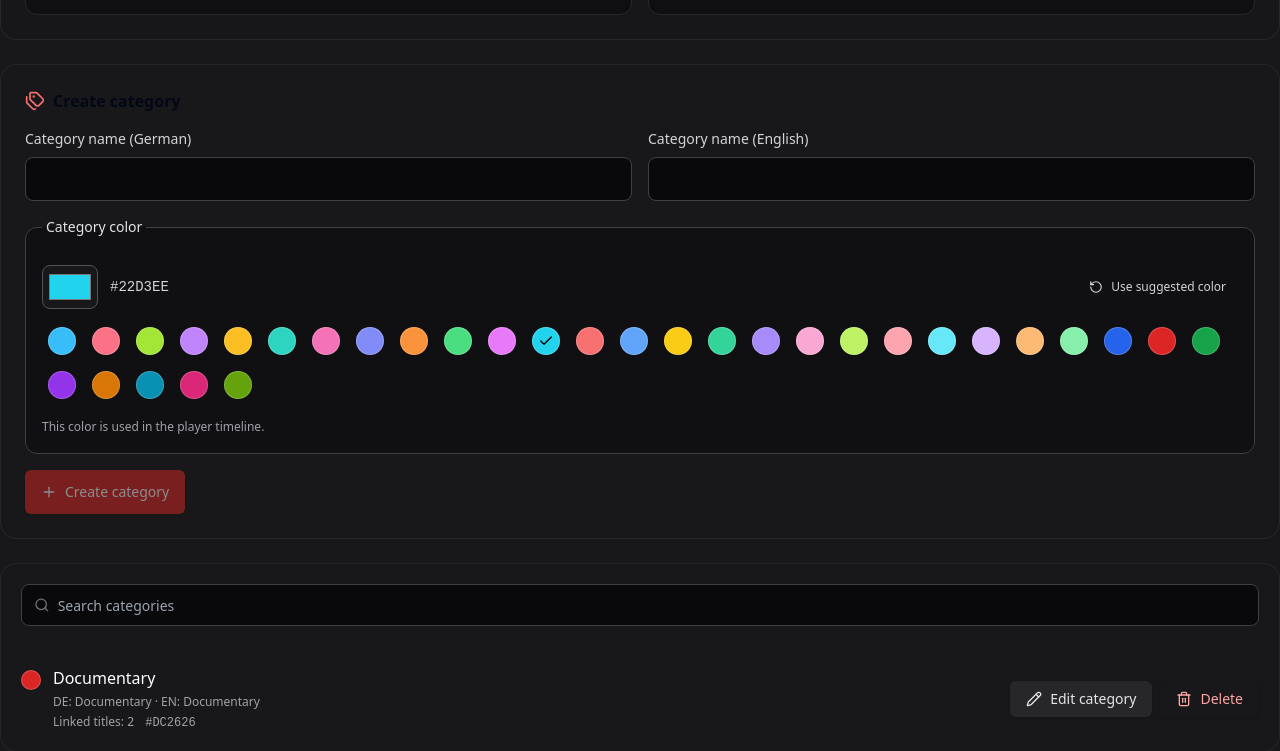
it: edits a category name and color using its stable ID
(page scrolled)
Click the button with aria-label "Edit category: Documentary" at point(1081, 698), box [1010,680,1152,716]
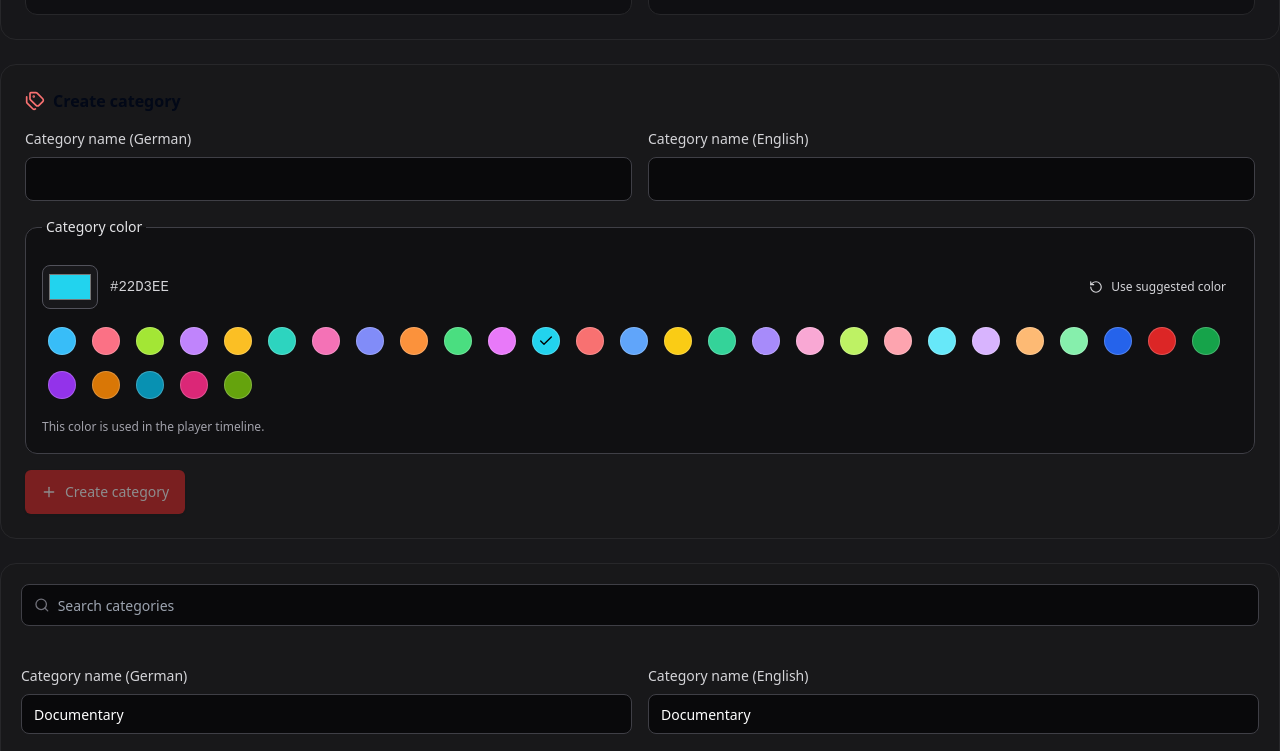
Replace the text in the 2nd field labelled "Category name (German)" with "New category name" at point(326, 714), box [21,694,632,734]
(page scrolled)
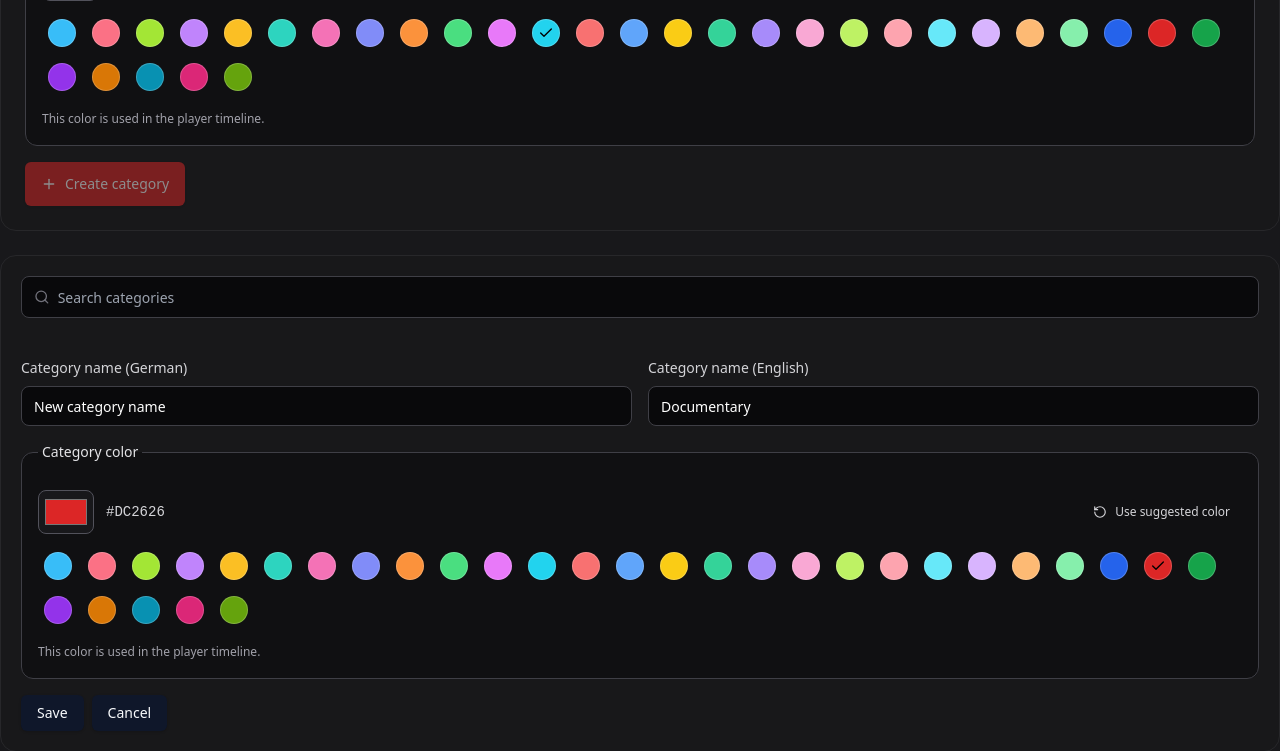
Type "#ff8800" into the colour field named "Custom color" next to "#DC2626" at point(66, 512), box [38,490,94,534]
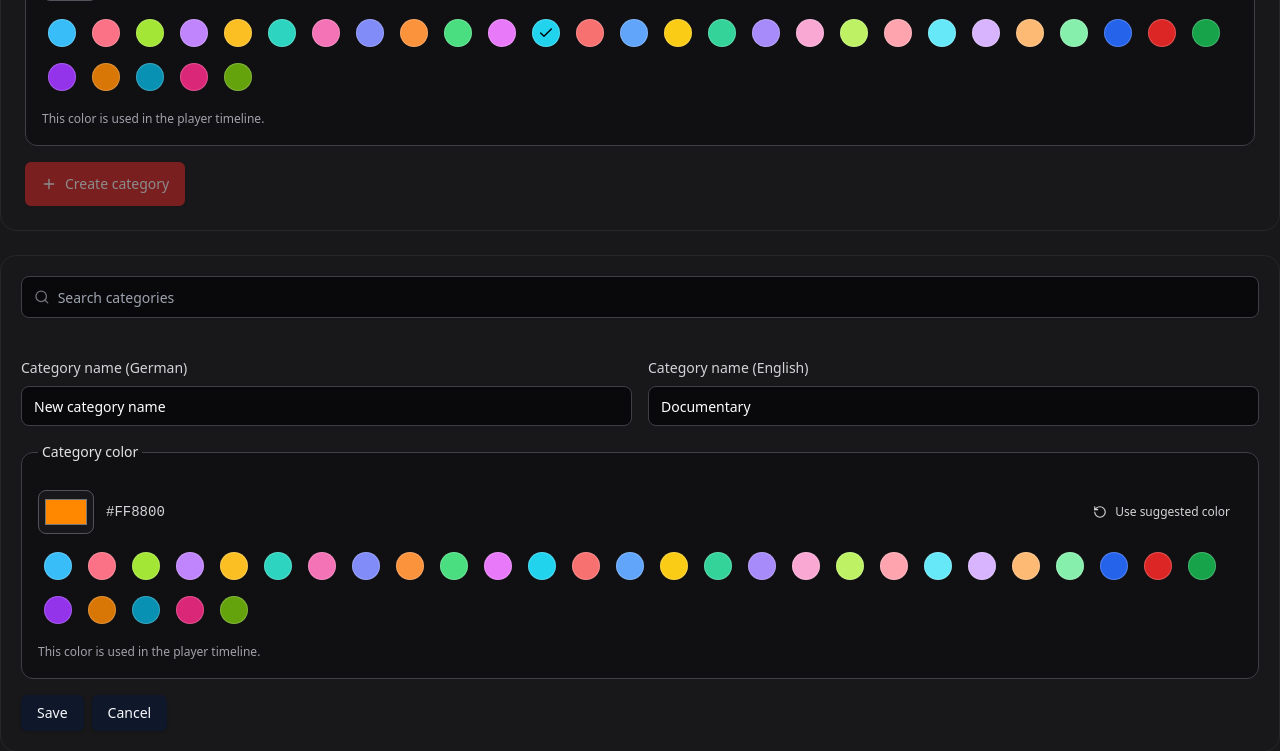
Click the button "Save" at point(52, 713), box [21,695,84,731]
(page scrolled)
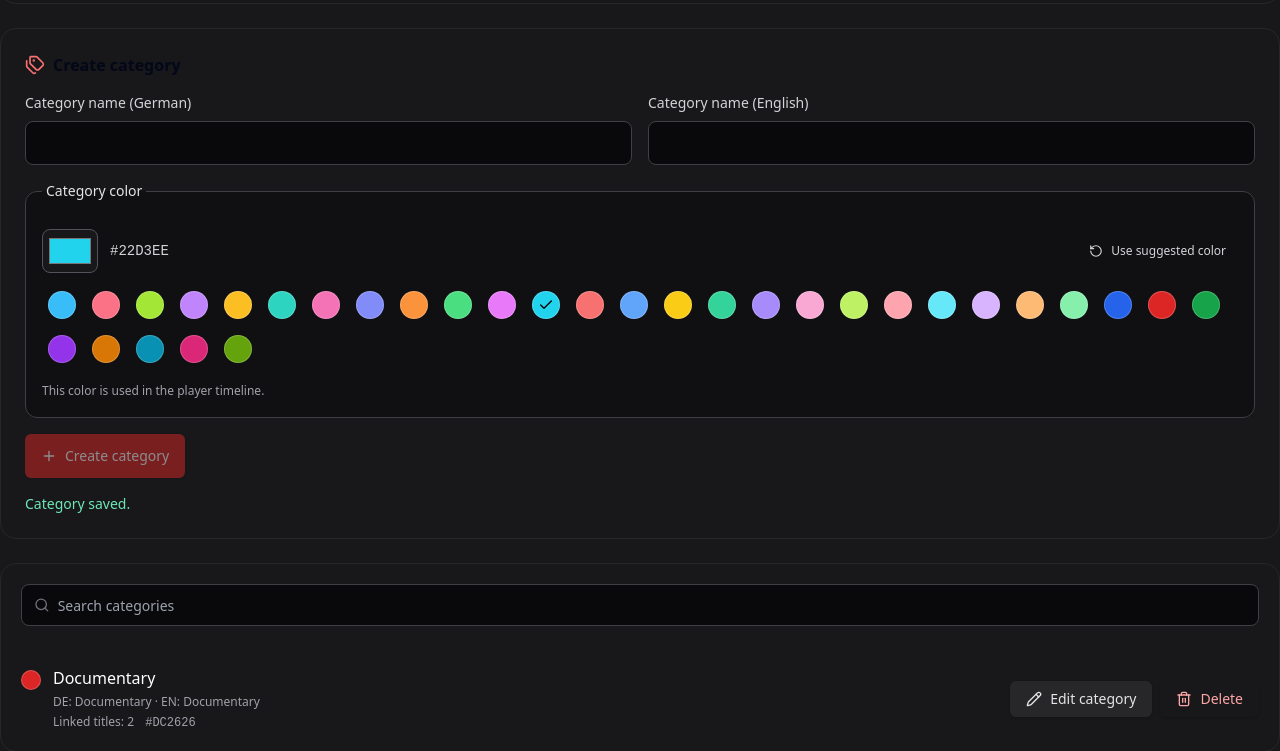
Expected: the text "Category saved." is shown, [25,494,130,513]
